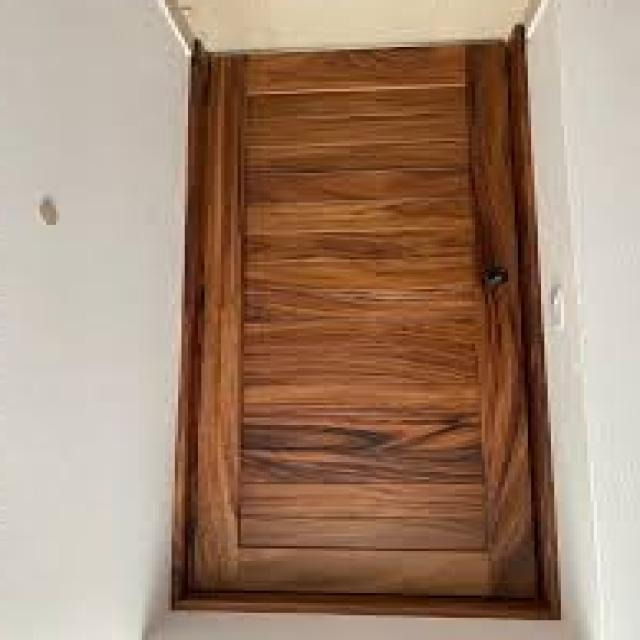door: (176, 40, 556, 620)
